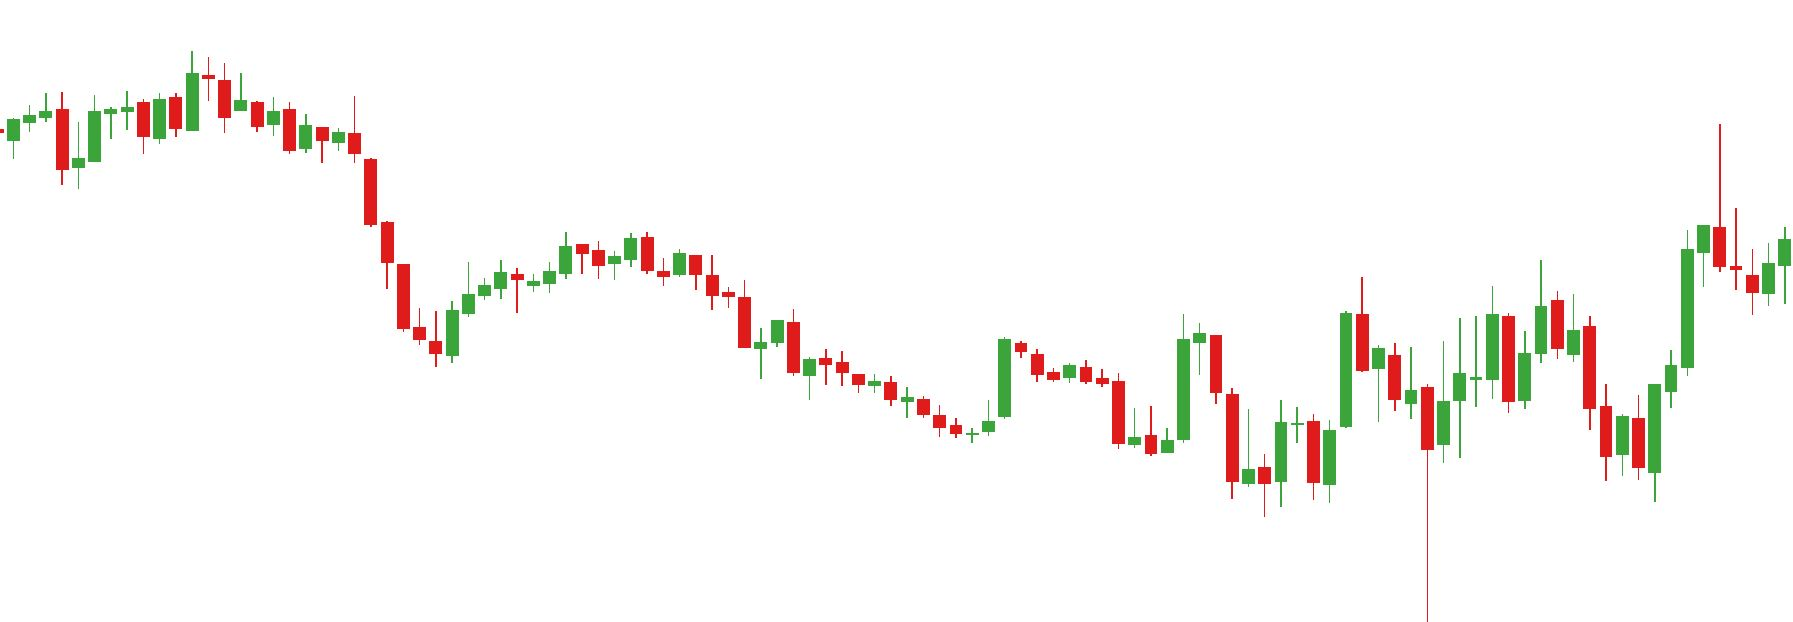buy: (1435, 328, 1631, 486)
sell: (1176, 278, 1373, 449)
